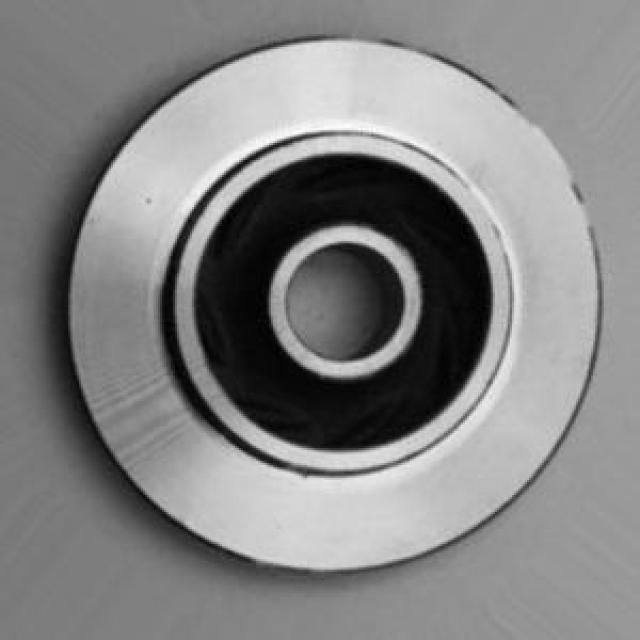Defect: (138, 194, 168, 214)
